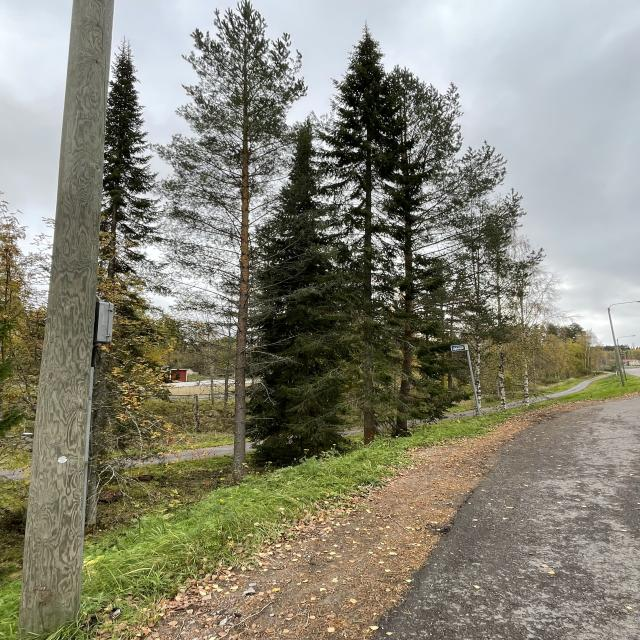spruce: (222, 111, 359, 478), (309, 19, 416, 473), (354, 52, 473, 438), (97, 27, 168, 286)
